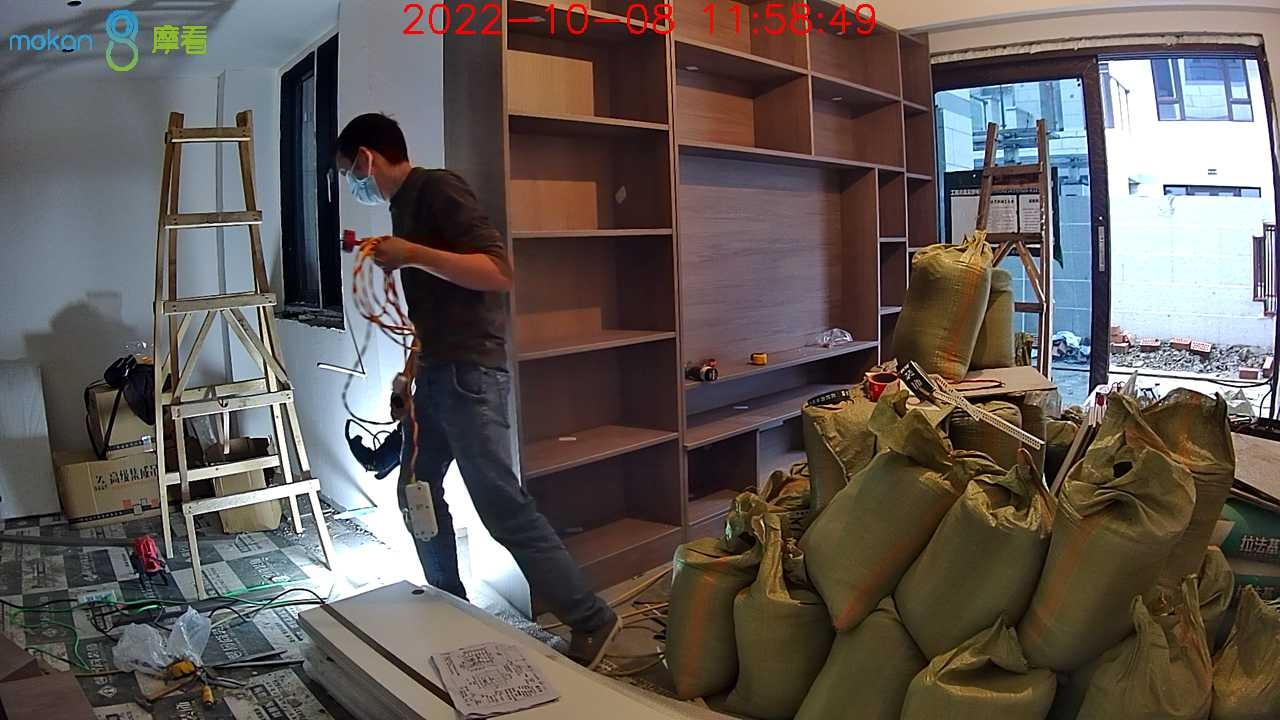people: (334, 113, 622, 672)
window: (933, 50, 1280, 419)
